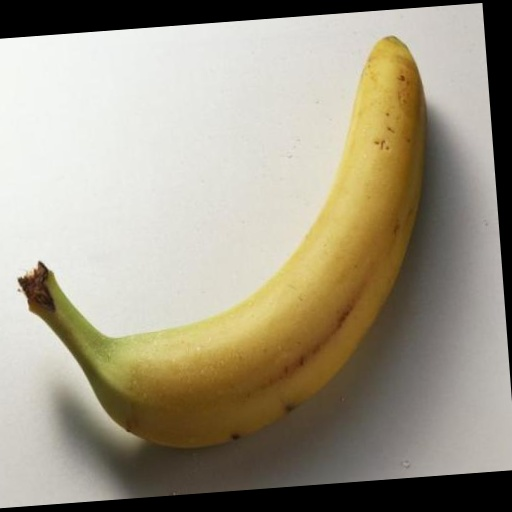fruit: (19, 37, 426, 446)
